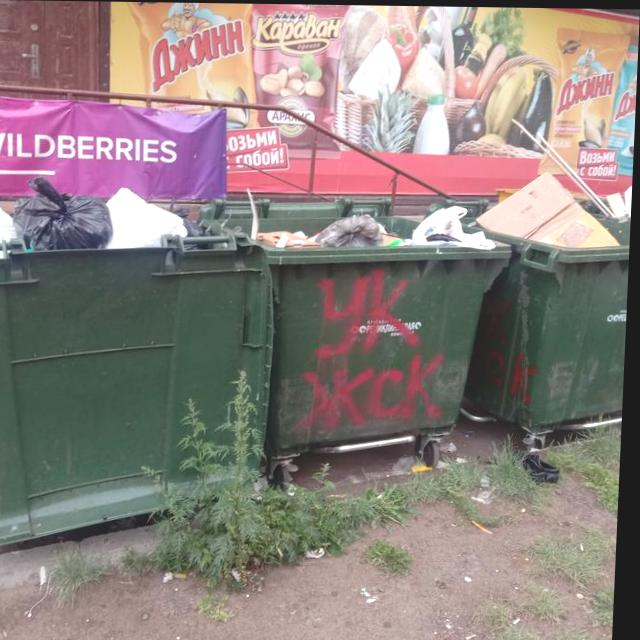Trash_Can_Full: (0, 176, 279, 549), (218, 203, 517, 451), (429, 169, 634, 426)
